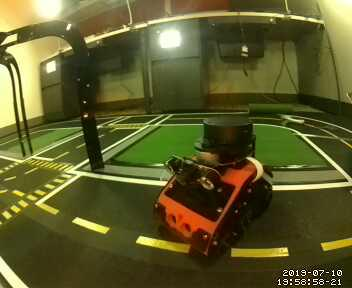pheeno: (152, 114, 276, 262)
